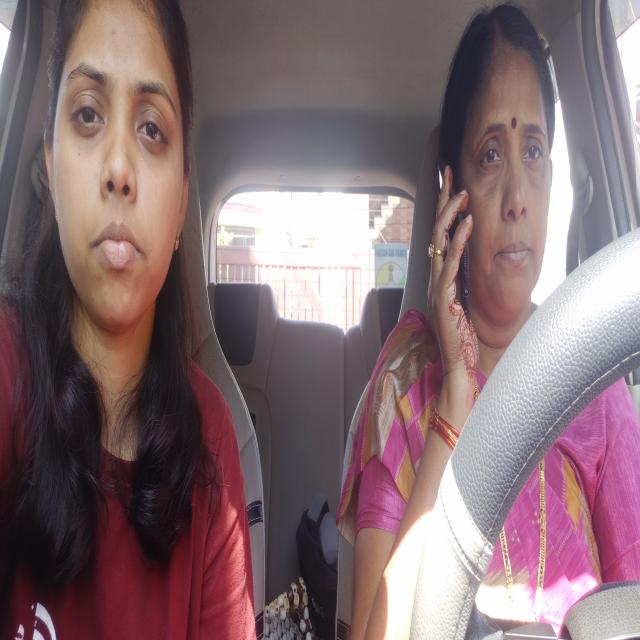mobile: (432, 139, 481, 329)
person: (23, 0, 205, 370), (422, 0, 565, 361)
